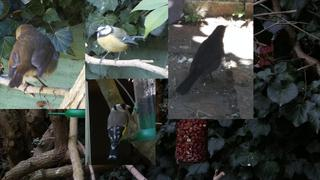blackbird: (175, 24, 229, 95)
blue tit: (94, 24, 144, 65)
goldfinch: (107, 103, 132, 160)
robin: (7, 24, 61, 95)
